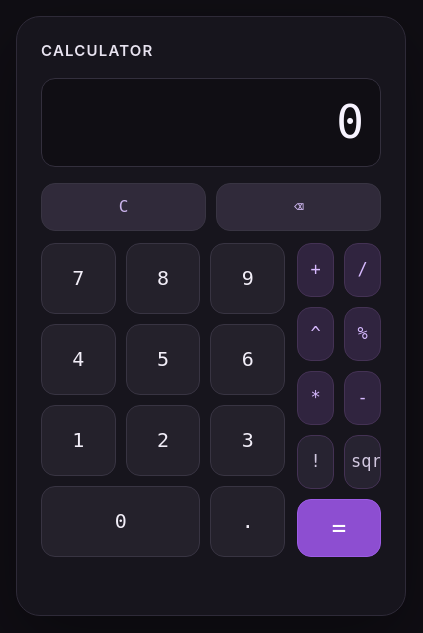
Test: calculator entry and controls › completes a pending binary operation before immediately running a unary operation
The width and height of the screenshot is (423, 633).
Expected: the button named "add, binary" is shown, [297,242,334,296]
Click the button "2" at [163, 440], box [126,404,200,476]
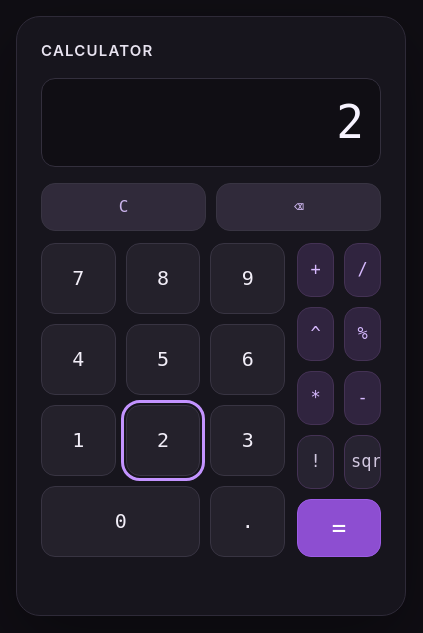
Click the button named "add, binary" at [316, 270], box [297,242,334,296]
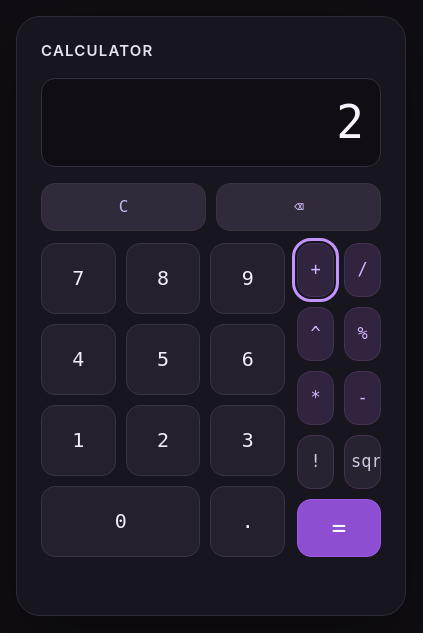
Click the button "3" at [248, 440], box [210,404,285,476]
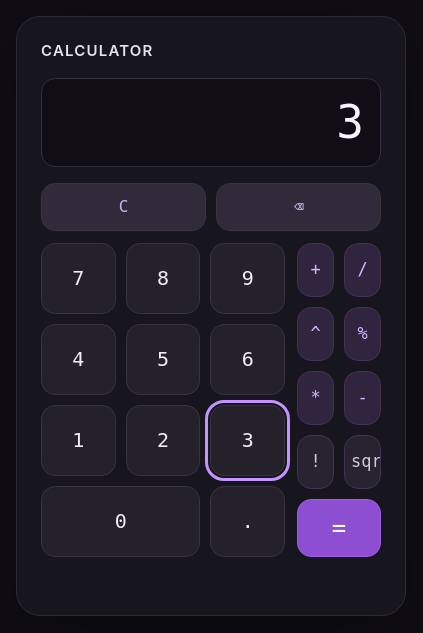
Click the button named "factorial, unary" at [316, 462], box [297,434,334,488]
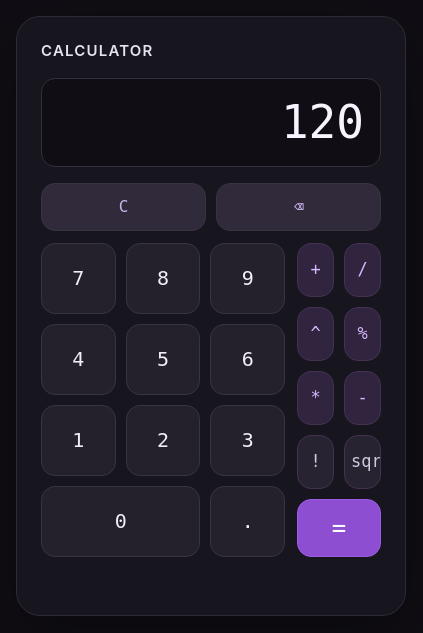
Expected: the element named "Display" reads "120", [281,96,364,150]
